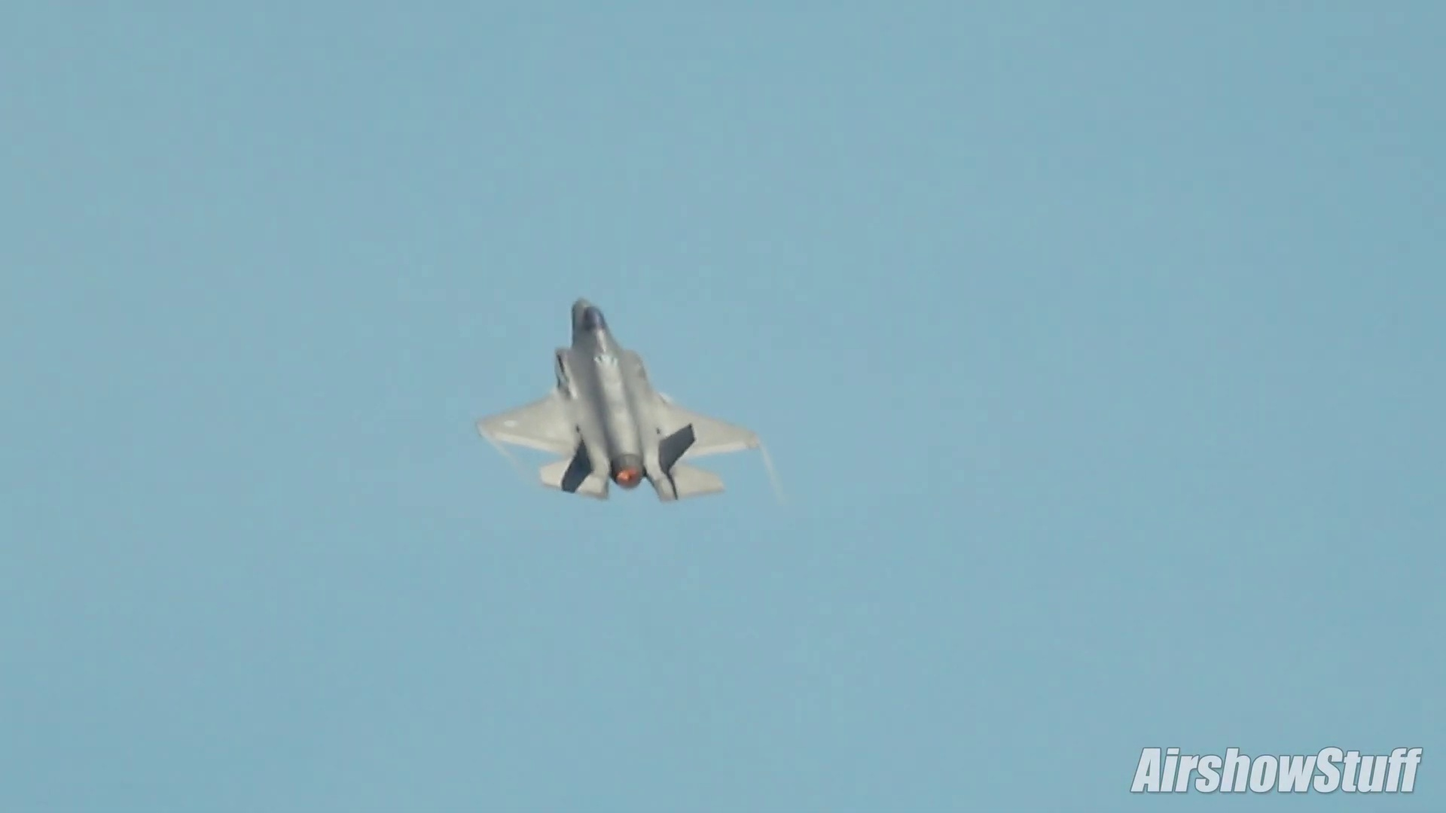F35: (469, 294, 765, 506)
